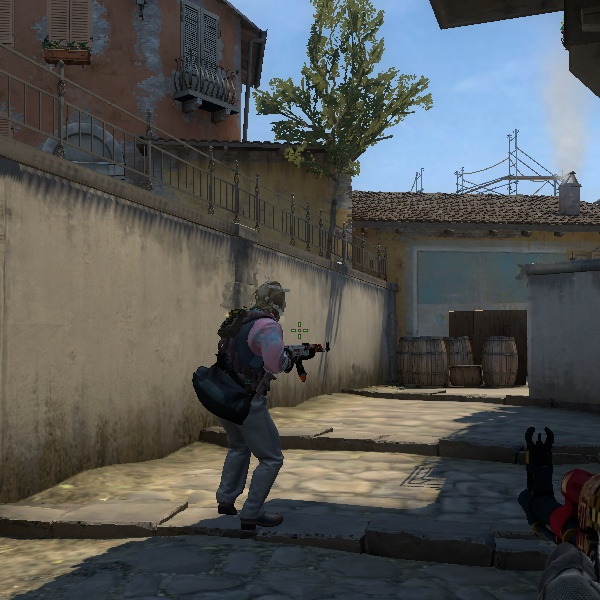ct_body: (180, 272, 326, 536)
ct_head: (245, 278, 293, 320)
